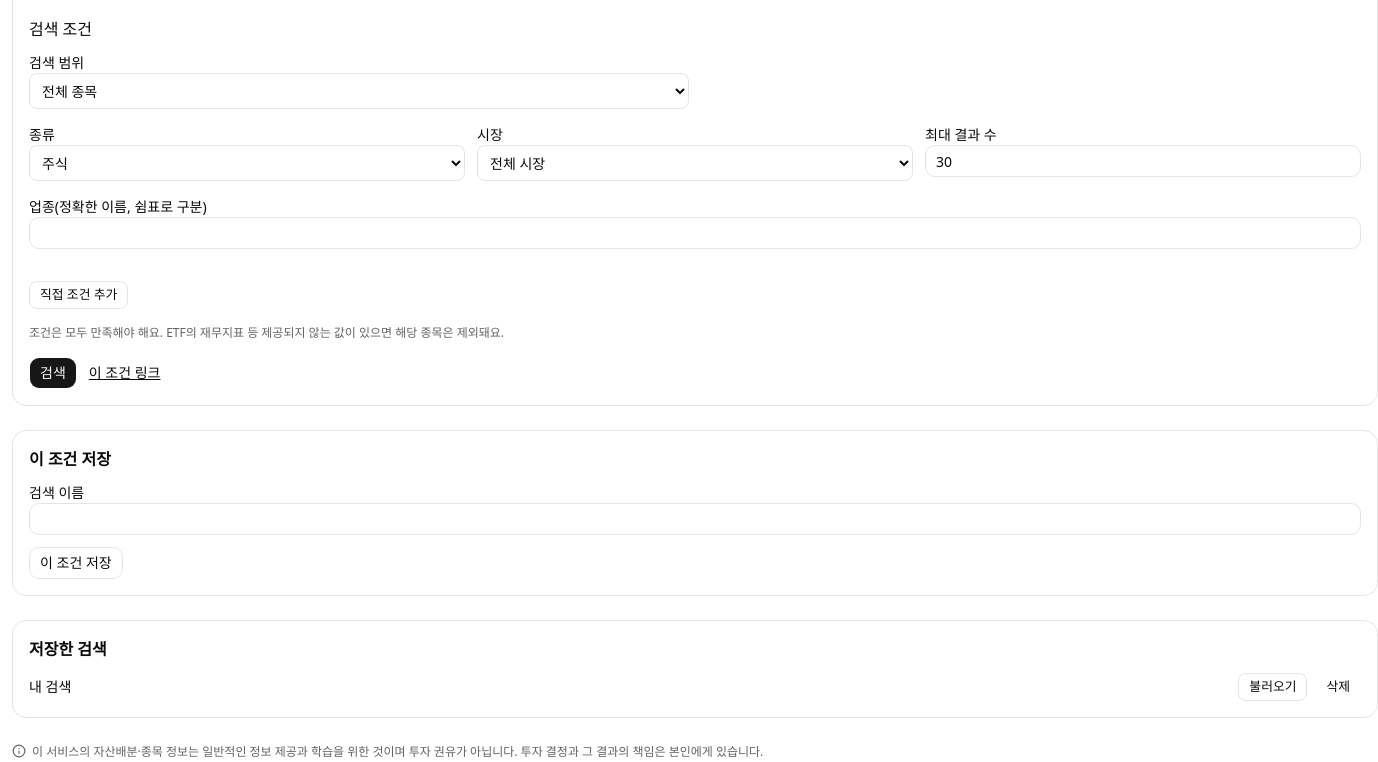
Scenario: 조건검색 화면 › 검색 저장·불러오기·삭제를 연결한다
(page scrolled)
Click the button "불러오기". click: (1273, 687)
box: 1238,673 -> 1308,701
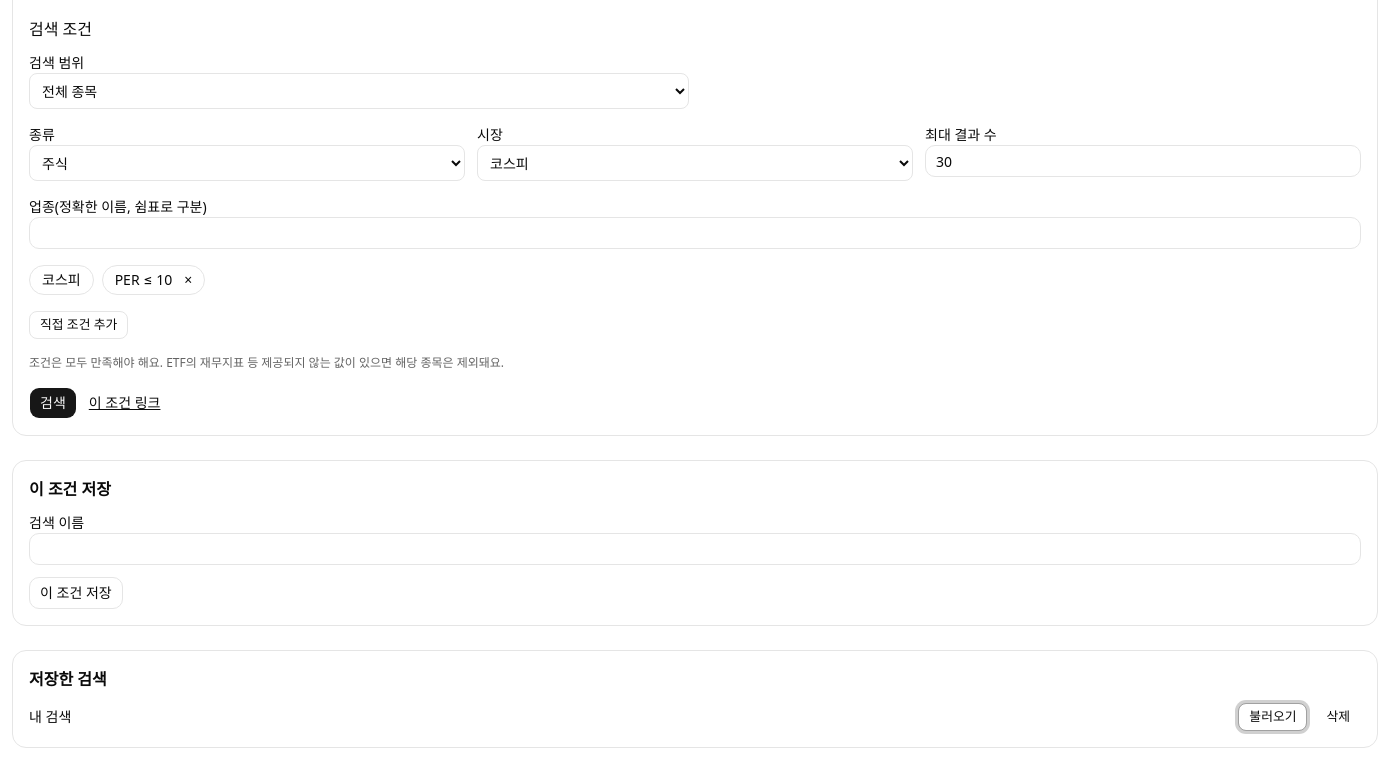
Now the button with aria-label "PER ≤ 10 수정" is shown, box 115,266 -> 172,294
Type "새 검색" into the field labelled "검색 이름". click: (695, 549)
box: 29,533 -> 1361,565
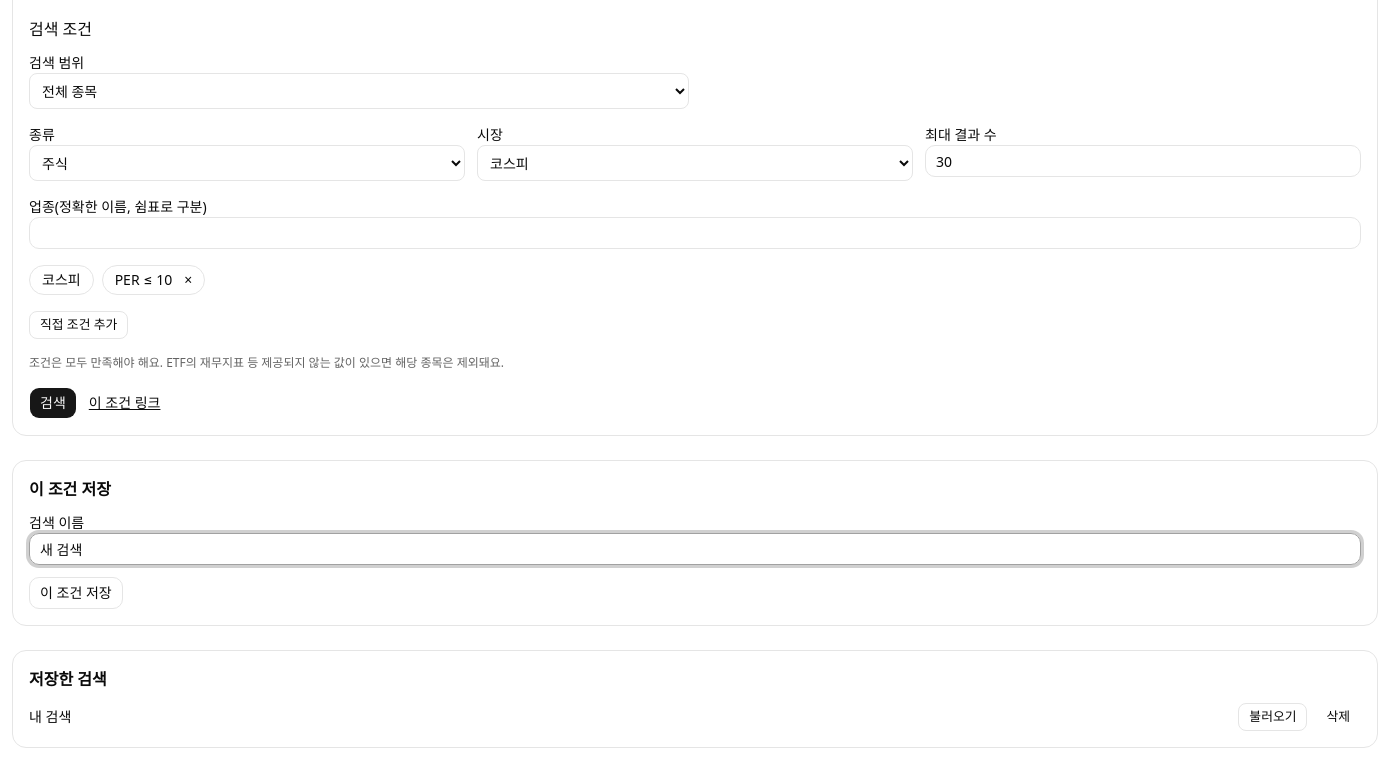
Click the button "이 조건 저장". click: (76, 593)
box: 29,577 -> 123,609
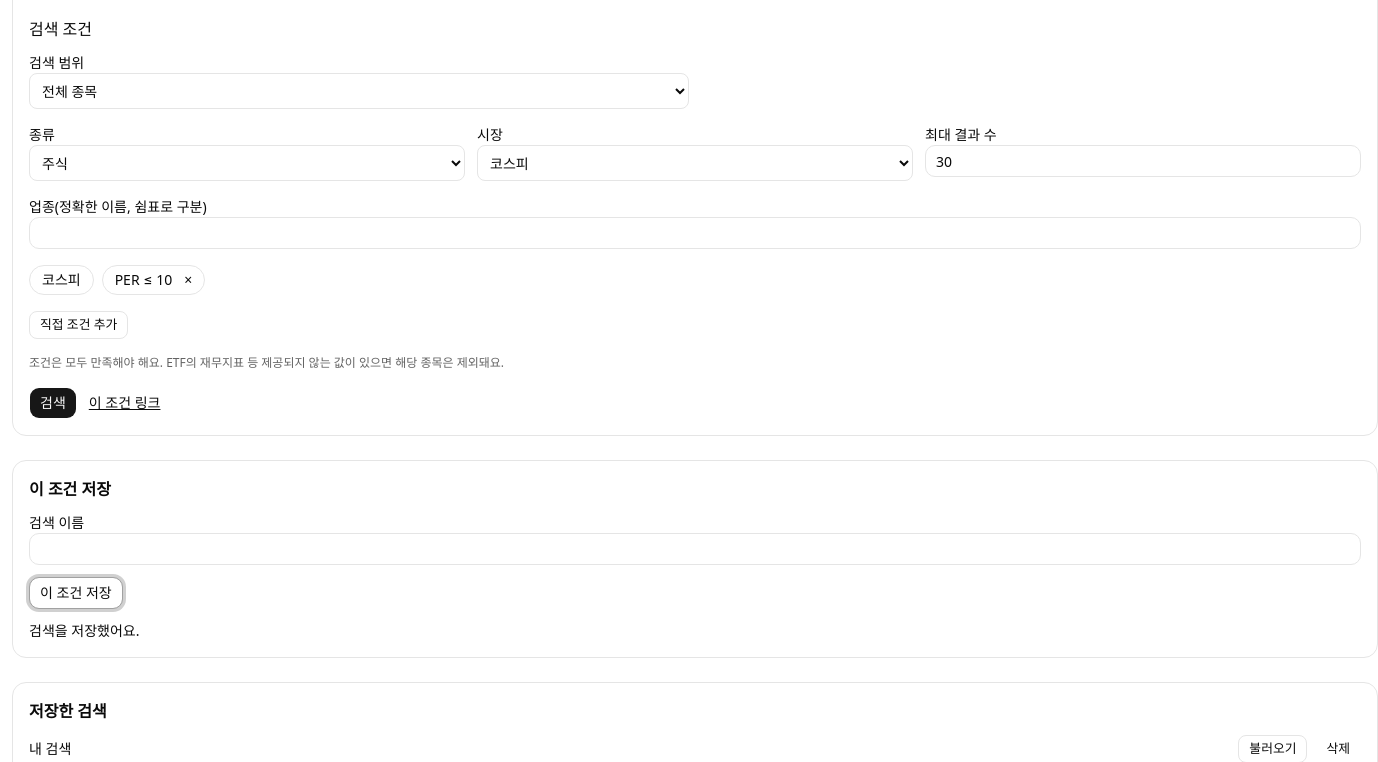
Now the text "검색을 저장했어요." is shown, box 29,621 -> 139,640
Click the button with aria-label "내 검색 삭제". click: (1338, 749)
box: 1316,735 -> 1361,761
(page scrolled)
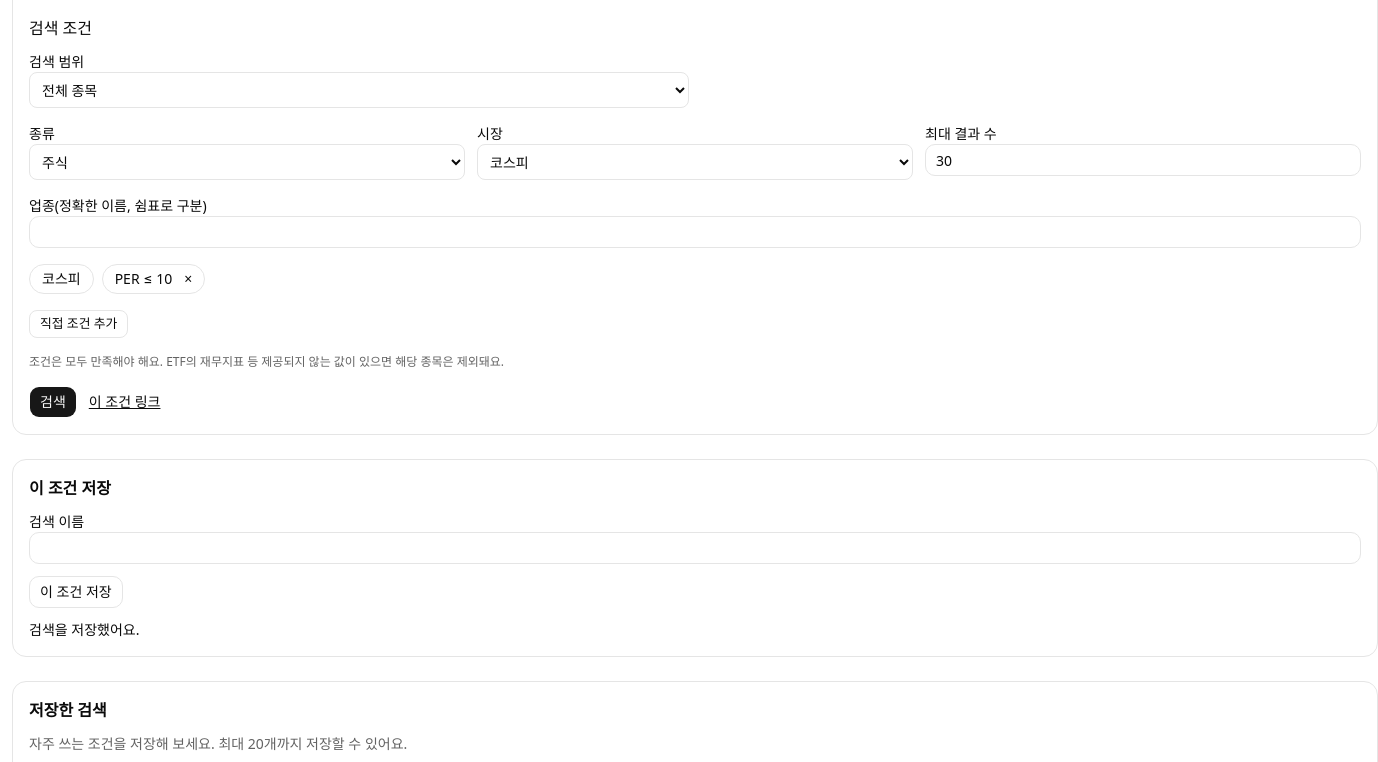
Now the button "불러오기" is gone
